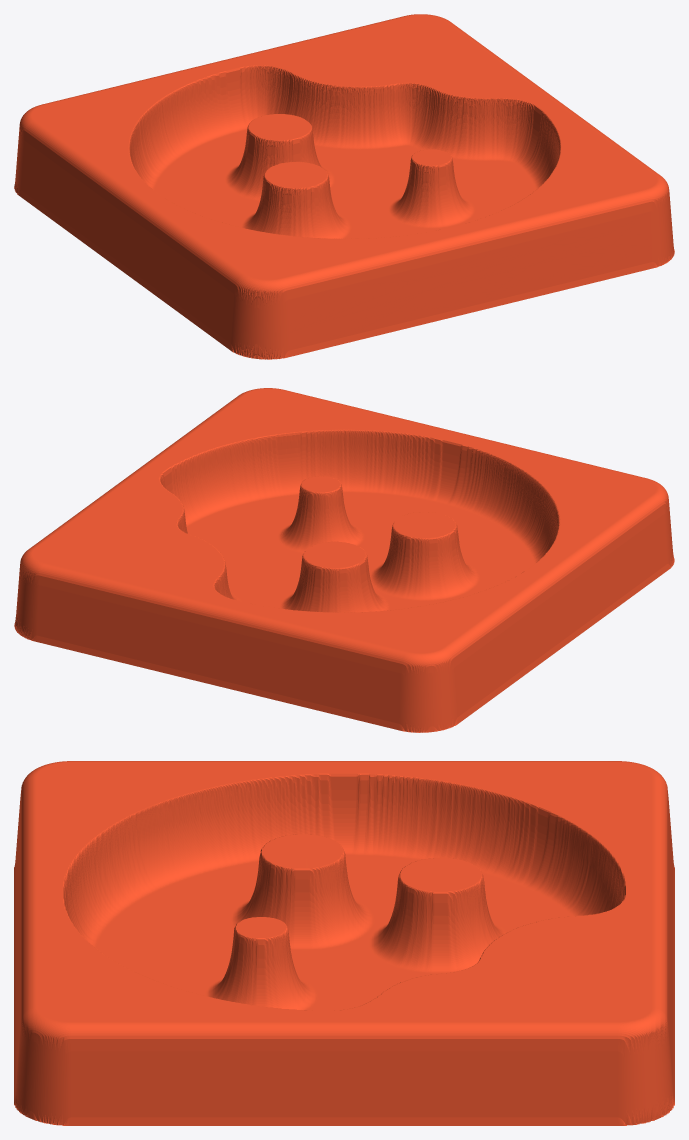
File: mold.glb
The picture shows the model from 3 angles, top to bottom: view 1: azimuth 30°, elevation 25°; view 2: azimuth 150°, elevation 25°; view 3: azimuth 270°, elevation 25°; orthographic projection. The views are drawn at different scales.
Visible parts, largest first — view 1: geometry_0; view 2: geometry_0; view 3: geometry_0.
Boxes of the visible parts, x1,y1,x2,y2 form: geometry_0: [14, 14, 674, 359]; geometry_0: [14, 388, 674, 732]; geometry_0: [14, 761, 674, 1125].
Size of the model in its own units: 0.1048 by 0.0165 by 0.105.
